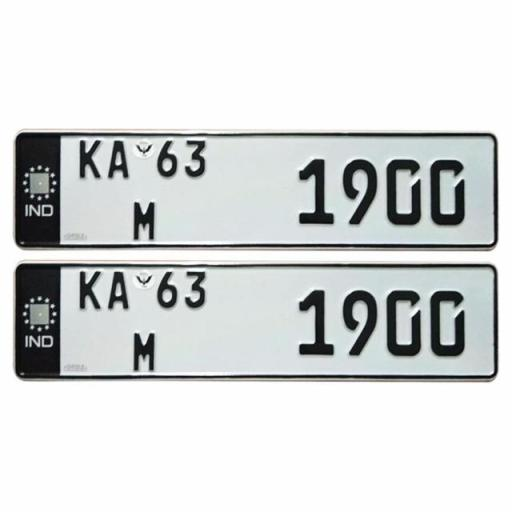number plate: (10, 127, 505, 258), (7, 267, 504, 383)
